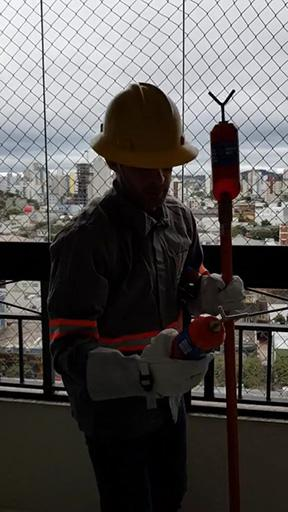Detector_Tensao_Contato: (166, 303, 249, 364), (206, 88, 241, 201)
Vara_Manobra: (216, 197, 246, 512)
